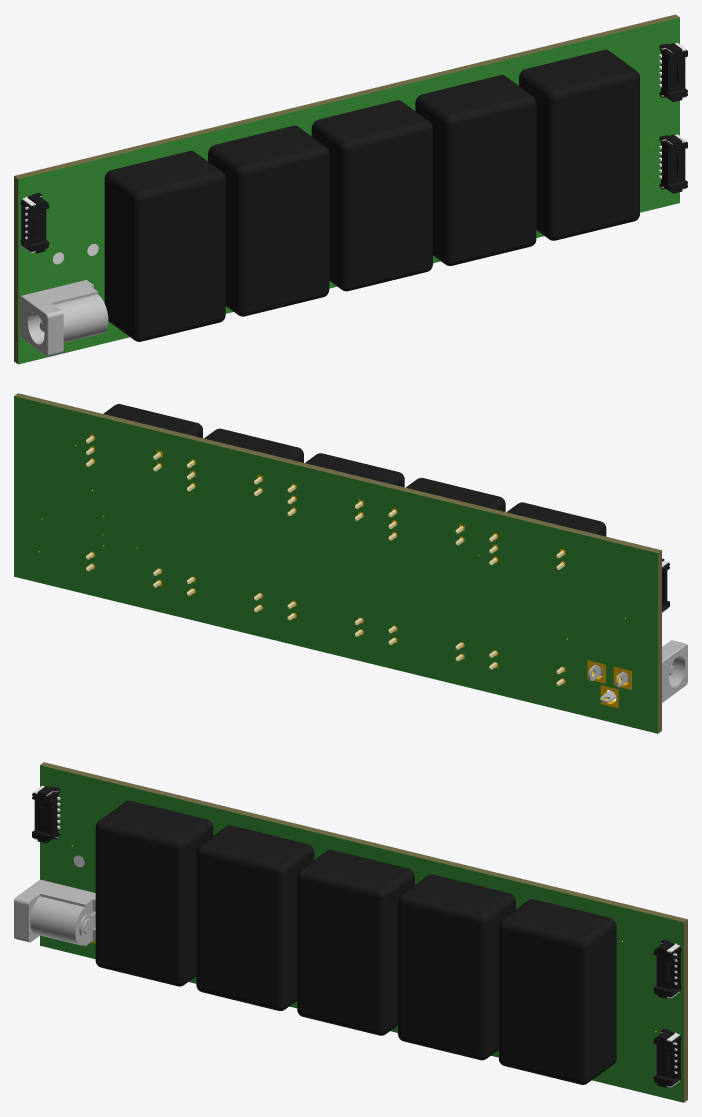
The model's file is lighting_power_brd.fbx.
The picture shows the model from 3 angles, top to bottom: view 1: azimuth 30°, elevation 25°; view 2: azimuth 150°, elevation 25°; view 3: azimuth 330°, elevation 25°; orthographic projection. The views are drawn at different scales.
Parts seen in each view (by area): view 1: Body1 (×7), Body15 (×3), Board; view 2: Body1 (×7), Board, Body2; view 3: Body1 (×7), Body15 (×3), Board.
Part boxes in pixels (bbox=[...]): Body1 (×7): bbox=[18, 17, 679, 364]; Body15 (×3): bbox=[20, 43, 687, 253]; Board: bbox=[14, 14, 679, 363]; Body1 (×7): bbox=[14, 396, 687, 733]; Board: bbox=[14, 393, 661, 733]; Body2: bbox=[89, 434, 631, 708]; Body1 (×7): bbox=[14, 765, 683, 1102]; Body15 (×3): bbox=[32, 786, 681, 1087]; Board: bbox=[40, 762, 687, 1102].
Size of the model in its own units: 14.6 by 3.91 by 1.63.
